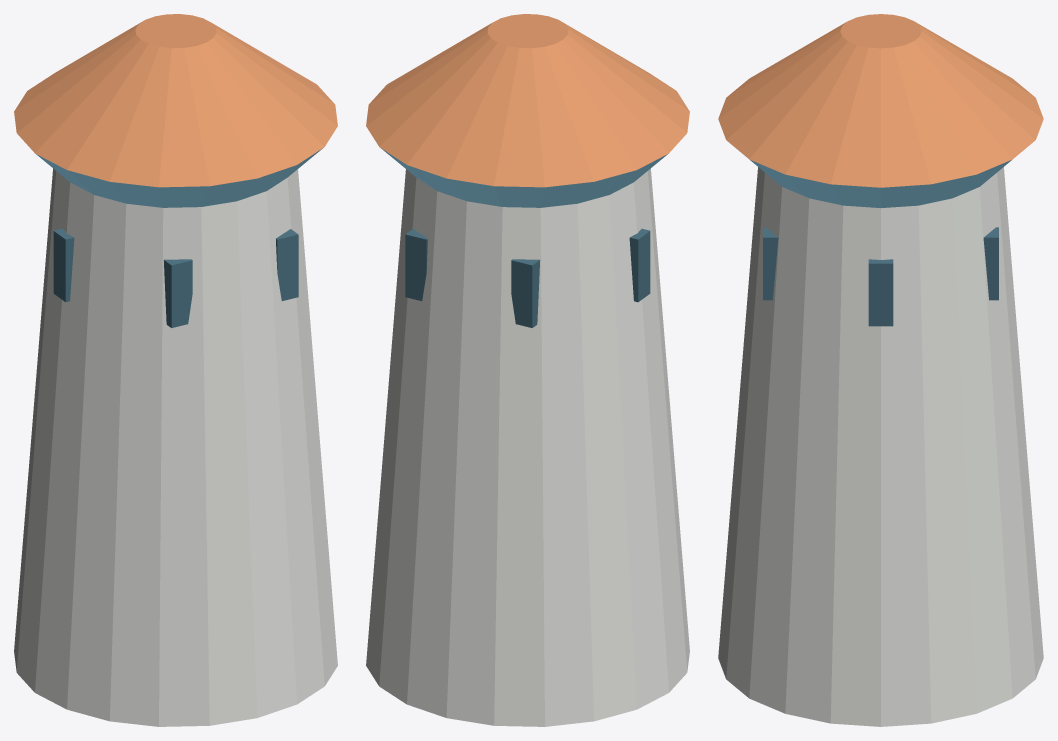
3 renders of one model, left to right at view 1: azimuth 30°, elevation 25°; view 2: azimuth 150°, elevation 25°; view 3: azimuth 270°, elevation 25°, orthographic.
Visible parts, largest first — view 1: worldgen; view 2: worldgen; view 3: worldgen.
Part boxes in pixels (x1=…): worldgen: x1=14, y1=14, x2=337, y2=726; worldgen: x1=366, y1=14, x2=689, y2=726; worldgen: x1=718, y1=14, x2=1043, y2=726.
Bounding box in the file's own units: 16 × 34 × 16.
